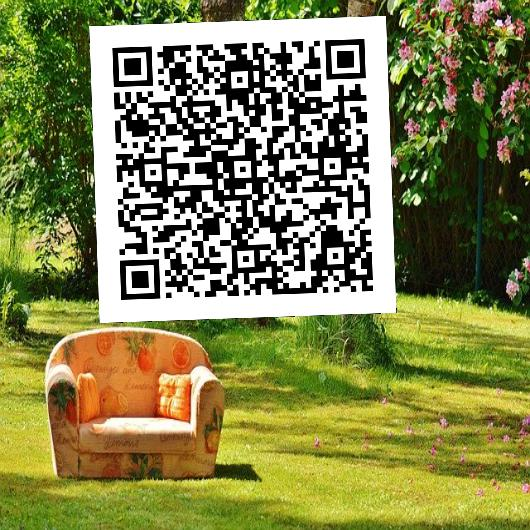qr_code: (89, 15, 396, 322)
